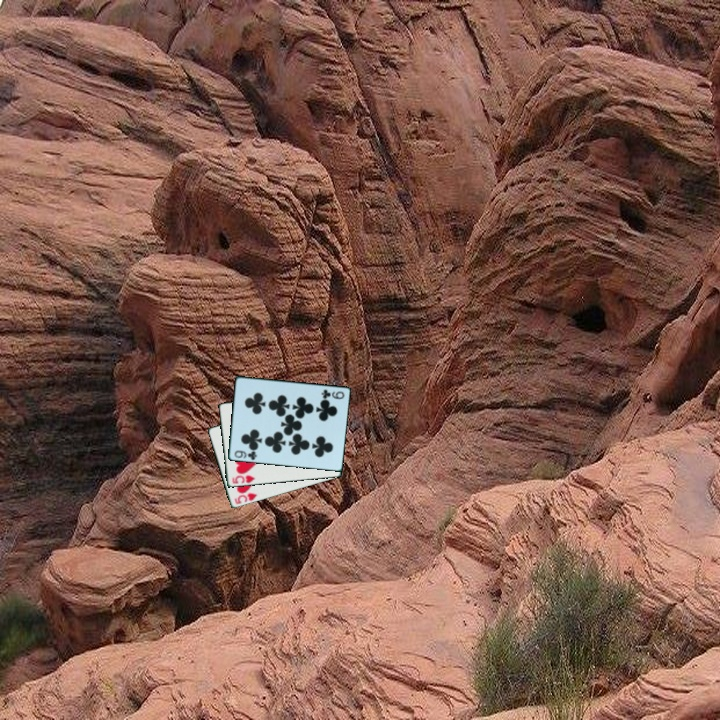5h: (231, 490, 260, 507), (229, 472, 258, 486)
9c: (318, 386, 347, 402), (231, 447, 259, 463)
